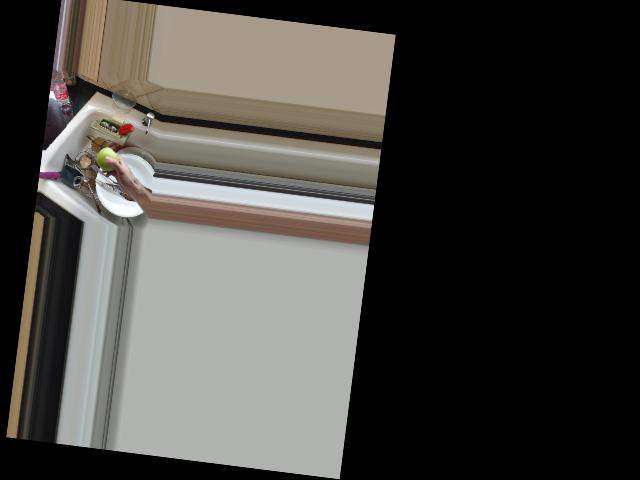apple: (94, 145, 123, 174)
